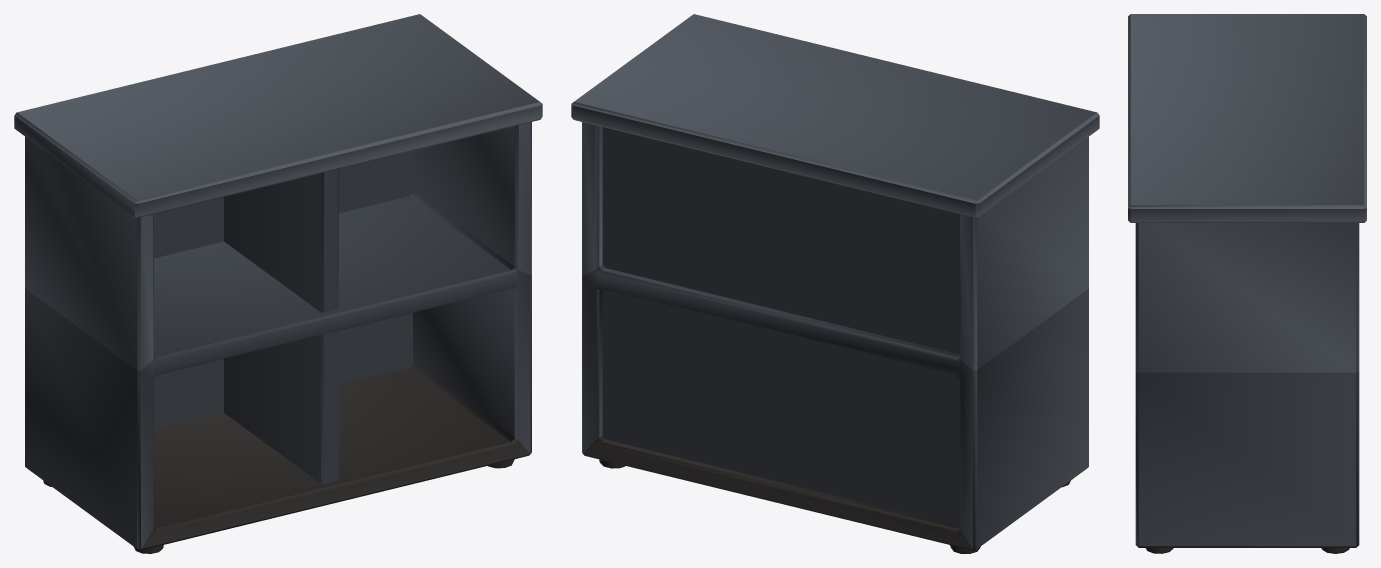
Rendered from estante_nichos_xadrez_pacote.glb.
3 renders of one model, left to right at view 1: azimuth 30°, elevation 25°; view 2: azimuth 150°, elevation 25°; view 3: azimuth 270°, elevation 25°, orthographic. The views are drawn at different scales.
Visible parts, largest first — view 1: estante_nichos_xadrez_pacote; view 2: estante_nichos_xadrez_pacote; view 3: estante_nichos_xadrez_pacote.
Boxes of the visible parts, bbox=[...] form: estante_nichos_xadrez_pacote: bbox=[14, 14, 542, 553]; estante_nichos_xadrez_pacote: bbox=[571, 14, 1099, 553]; estante_nichos_xadrez_pacote: bbox=[1128, 14, 1366, 553].
Bounding box in the file's own units: 0.9993 × 0.8562 × 0.5209.
Materials: 1 (1 with a texture image).
